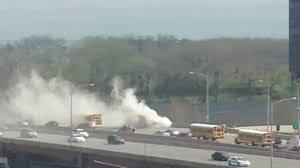smoke: (0, 67, 175, 142)
